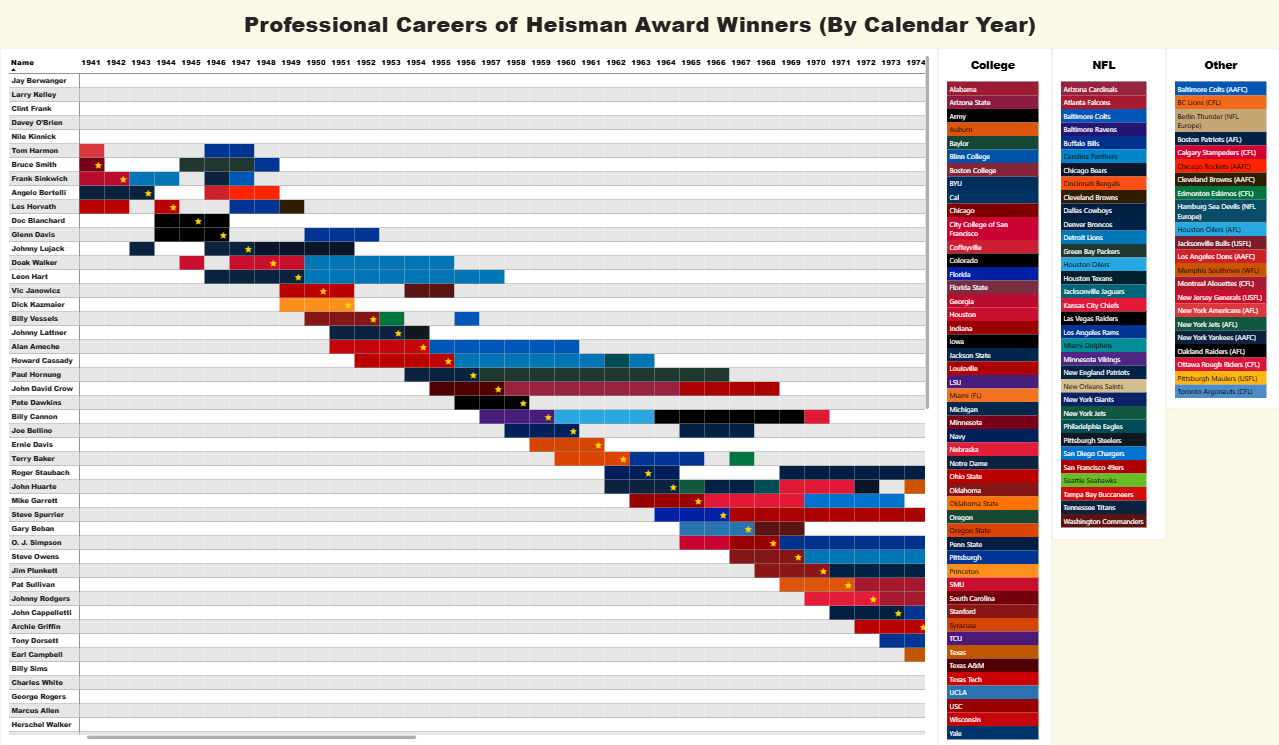

This screenshot's page, from the dashboard's own definition file:
{"tool":"powerbi","page":{"name":"Calendar View","canvas":[2560,1500],"ordinal":0},"visuals":[{"type":"pivotTable","fields":{"Columns":["heisman_winners_by_year.Year"],"Rows":["heisman_winners_by_year.Name"],"Values":["heisman_winners_by_year.TeamDisplay"]},"box":[0,98,1876,1400],"z":0},{"type":"tableEx","fields":{"Values":["team_colors.Legend Name"]},"box":[1876,98,228,1402],"z":1000},{"type":"tableEx","fields":{"Values":["team_colors.Legend Name"]},"box":[2104,98,228,984],"z":2000},{"type":"tableEx","fields":{"Values":["team_colors.Legend Name"]},"box":[2332,98,228,722],"z":3000},{"type":"textbox","box":[2104,1330,228,170],"z":4000},{"type":"textbox","title":"Professional Careers of Heisman Award Winners (By Calendar Year)","box":[368,18,1824,80],"z":5000}]}

Visuals, with their boxes in screenshot pixels (x1, y1, x2, y2), scaled from the page's 2560x1500 canvas onto the 1279x745 screenshot:
pivotTable - heisman_winners_by_year.Year x heisman_winners_by_year.Name: [left=0, top=49, right=937, bottom=744]
tableEx - team_colors.Legend Name: [left=937, top=49, right=1051, bottom=744]
tableEx - team_colors.Legend Name: [left=1051, top=49, right=1165, bottom=537]
tableEx - team_colors.Legend Name: [left=1165, top=49, right=1278, bottom=407]
textbox: [left=1051, top=661, right=1165, bottom=744]
"Professional Careers of Heisman Award Winners (By Calendar Year)" textbox: [left=184, top=9, right=1095, bottom=49]
